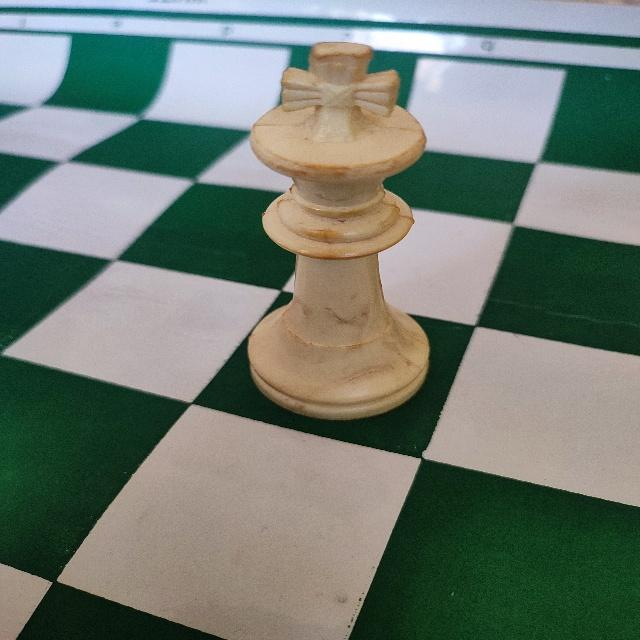King: (242, 39, 440, 427)
